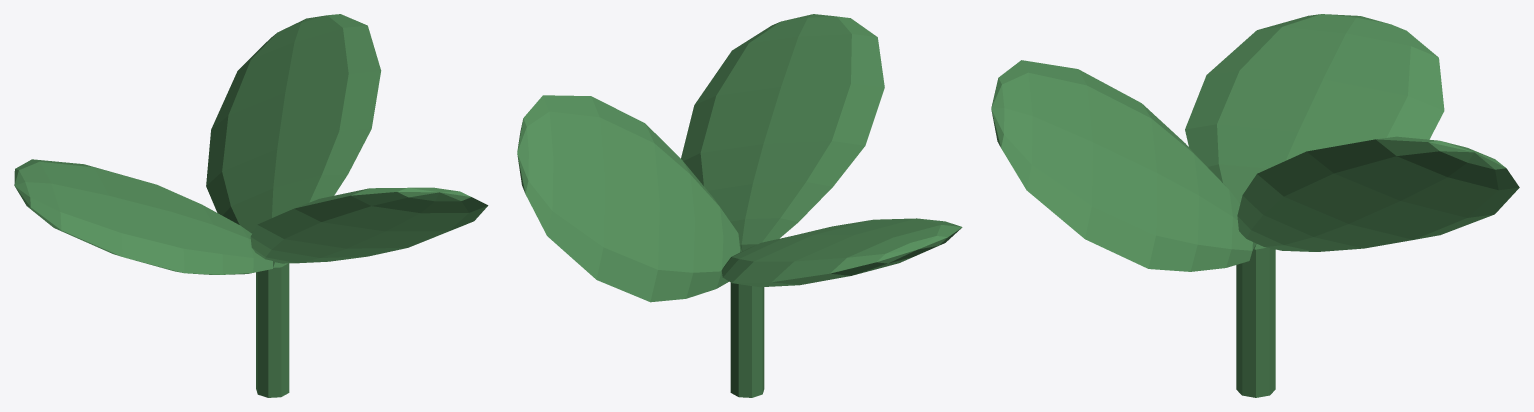
Rendered from Sapling.fbx.
The picture shows the model from 3 angles, left to right: view 1: azimuth 30°, elevation 25°; view 2: azimuth 150°, elevation 25°; view 3: azimuth 270°, elevation 25°; orthographic projection. The views are drawn at different scales.
Parts seen in each view (by area): view 1: Sapling; view 2: Sapling; view 3: Sapling.
Part boxes in pixels (x1,y1,x2,y2): Sapling: (14,14,488,397); Sapling: (517,14,962,397); Sapling: (991,14,1519,397).
Size of the model in its own units: 3.53 by 2.68 by 3.86.
